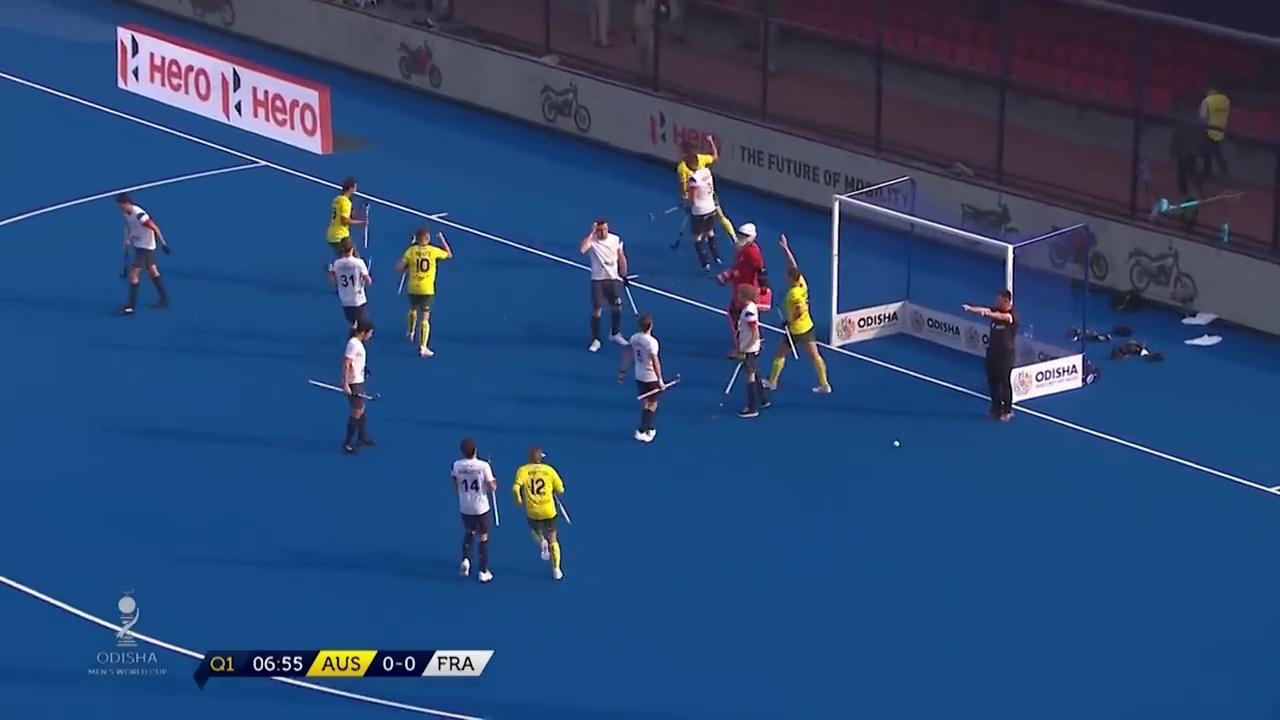ball: (889, 435, 905, 450)
